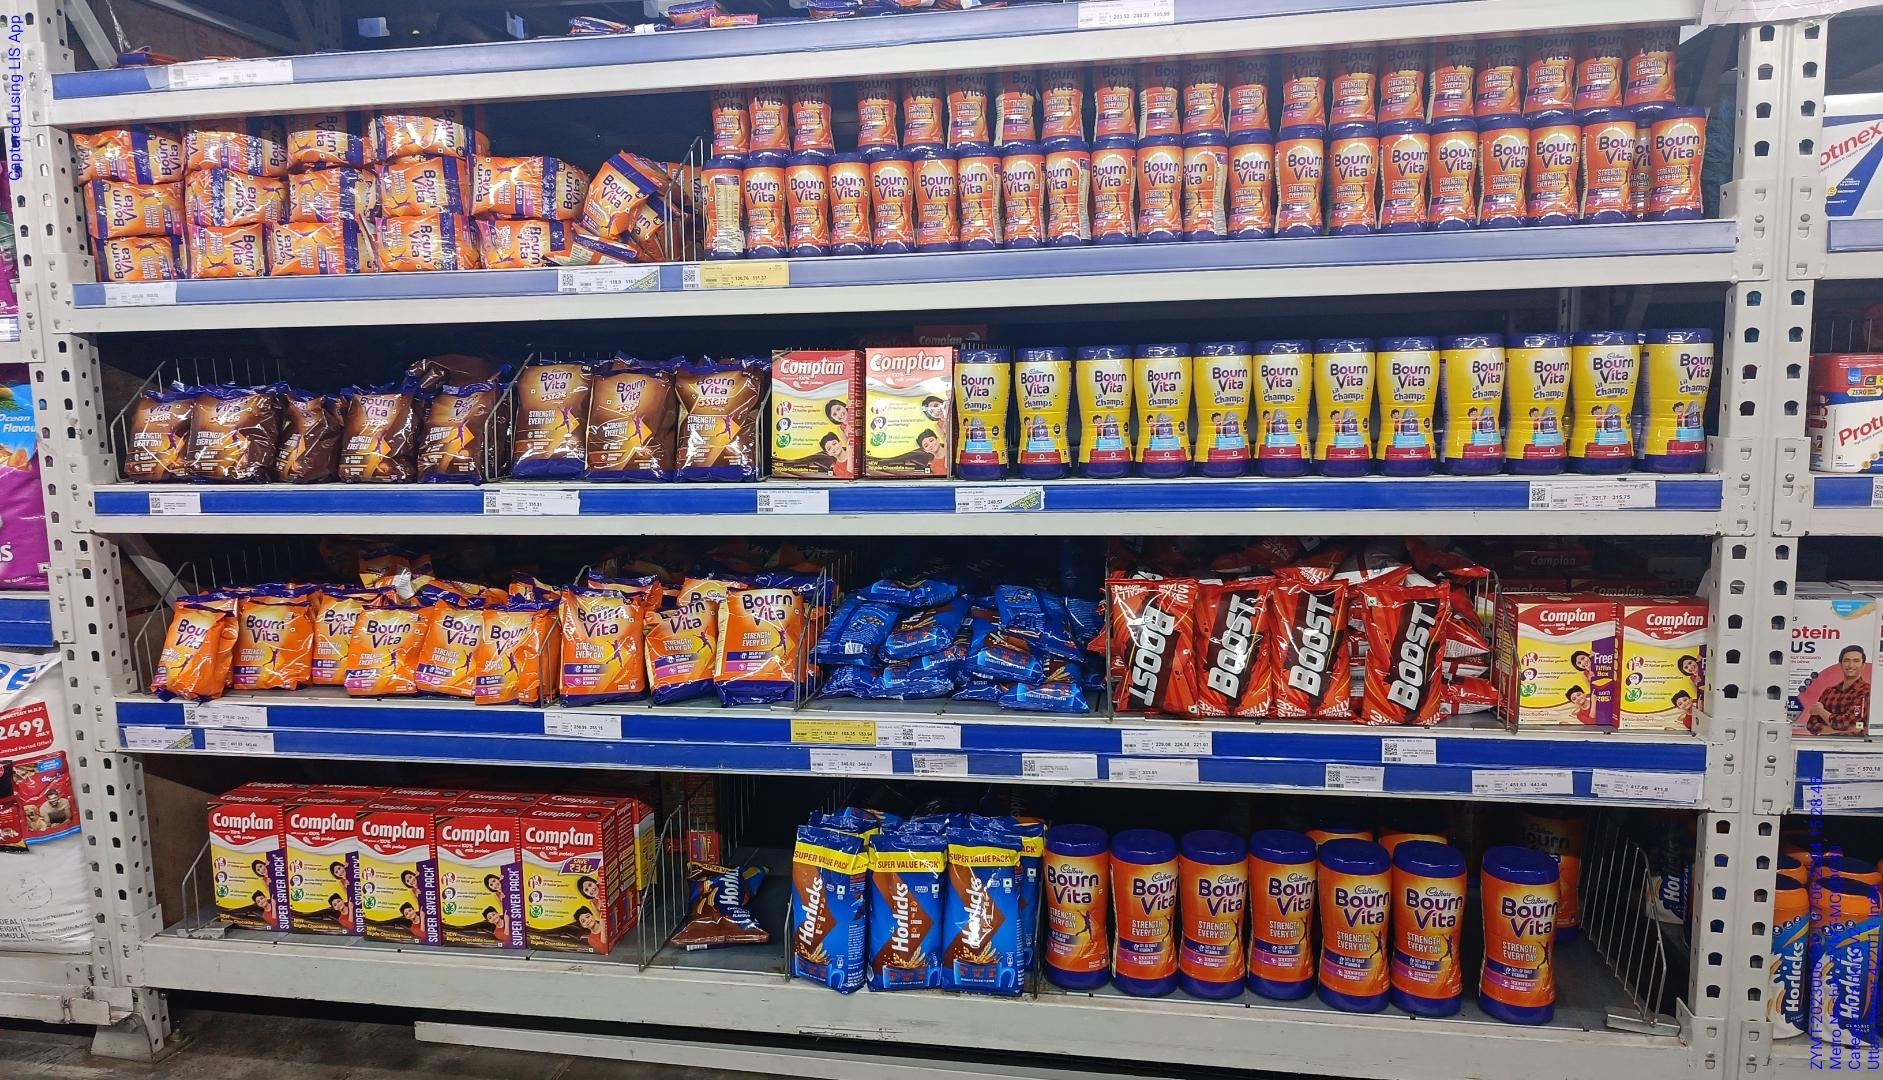BOURN_VITA_CHAMPS_500_G_JAR: (1648, 332, 1721, 472), (1570, 334, 1641, 459), (1445, 338, 1505, 460), (1512, 339, 1574, 457), (1256, 348, 1317, 466), (1379, 341, 1439, 459), (1134, 341, 1191, 463), (1318, 344, 1375, 458), (1077, 349, 1132, 467), (1194, 345, 1249, 459), (1014, 352, 1068, 462), (957, 353, 1006, 468)
BOURN_VITA_FIVE_STAR_MAGIC_500_G_POUCH: (590, 357, 670, 481), (190, 396, 287, 491), (682, 365, 764, 476), (516, 365, 585, 473), (427, 384, 493, 489), (340, 388, 407, 482), (127, 401, 185, 479)
